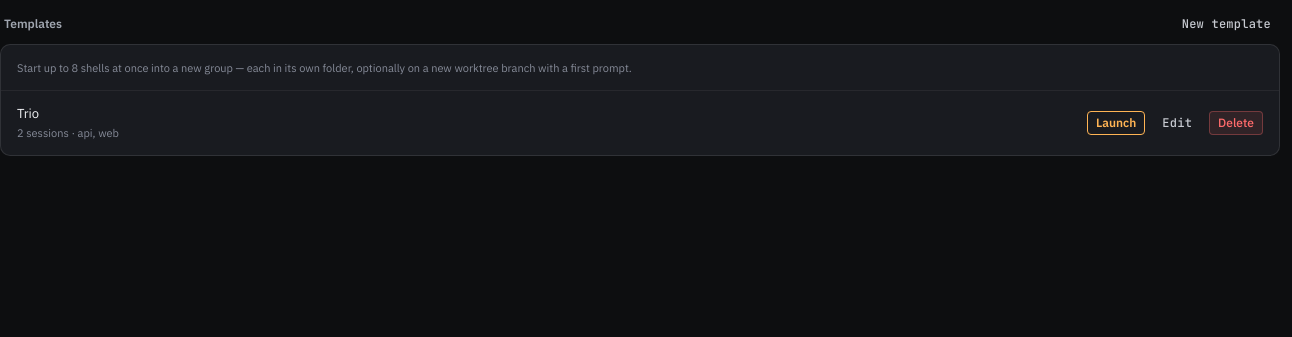
Scenario: TemplatesSection › launch: an in-page confirm lists what will be created, then per-spec results
Click the button "Launch". click: (1116, 122)
box: x1=1087 y1=110 x2=1145 y2=134
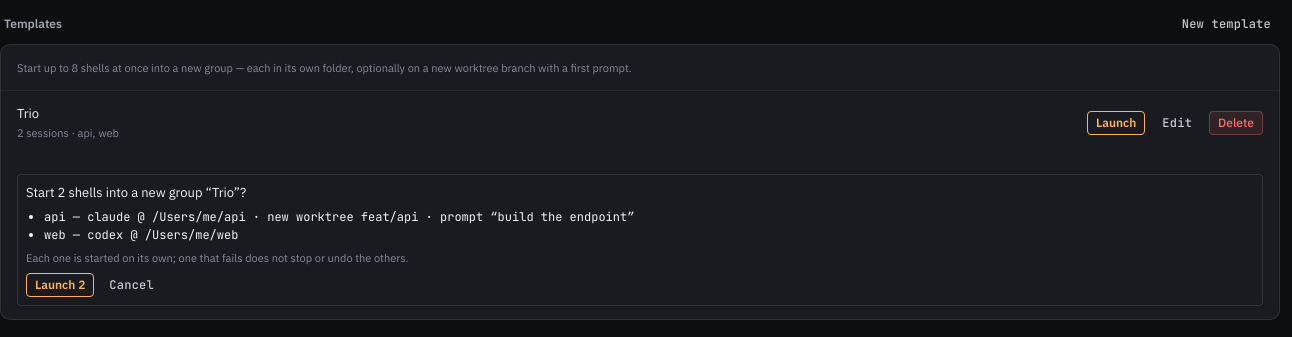
Expected: the element with test id "template-launch-confirm" shows "Start 2 shells into a new group “Trio”", x1=17 y1=174 x2=1263 y2=306
Expected: the element with test id "template-launch-confirm" shows "api — claude @ /Users/me/api · new worktree feat/api · prompt “build the endpoint”", x1=44 y1=209 x2=634 y2=225
Expected: the element with test id "template-launch-confirm" shows "web — codex @ /Users/me/web", x1=44 y1=227 x2=238 y2=243
Click the button "Launch 2". click: (60, 284)
box: x1=26 y1=272 x2=94 y2=296
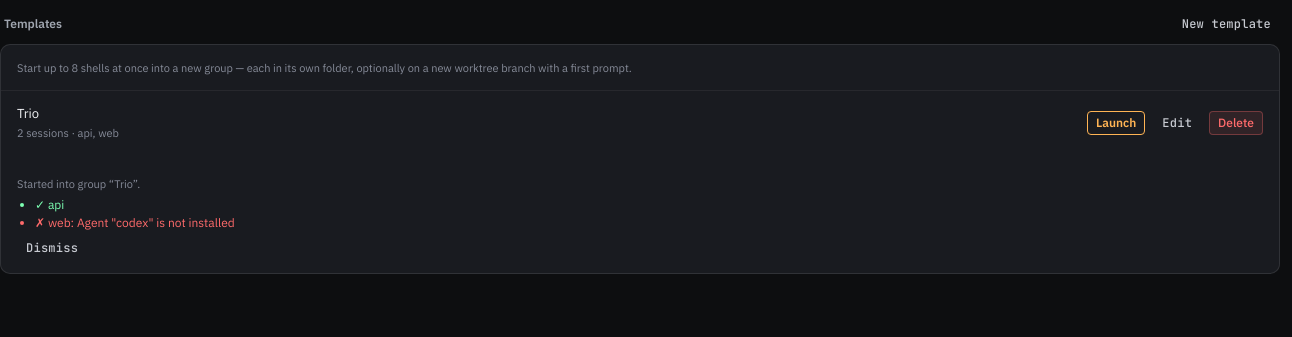
Expected: the element with test id "template-launch-confirm" is gone
Expected: the element with test id "template-results" shows "Started into group “Trio”", x1=17 y1=176 x2=140 y2=190
Expected: the list item with test id "template-result-ok" shows "api", x1=35 y1=197 x2=64 y2=212
